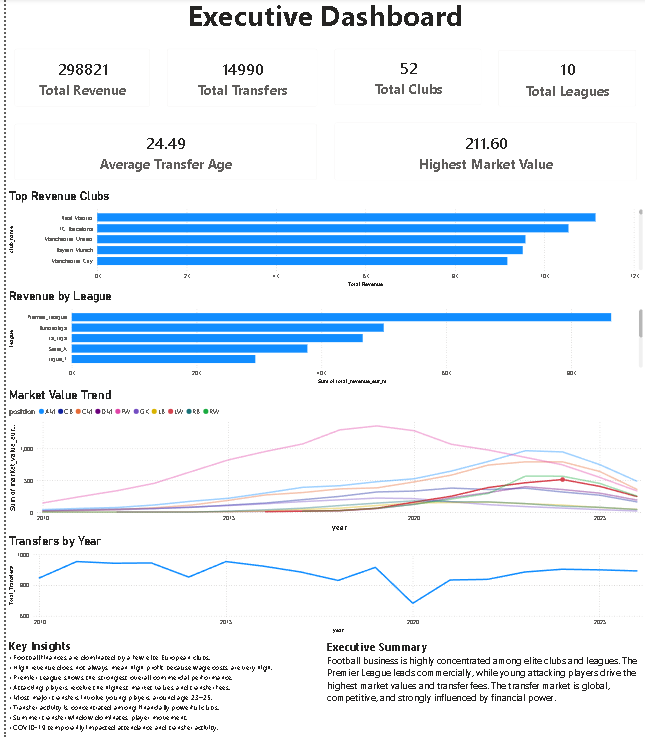

What the dashboard file says about the page in this screenshot:
{"tool":"powerbi","page":{"name":"Executive Dashboard","canvas":[1280,1500],"ordinal":0},"visuals":[{"type":"textbox","box":[0,0,1278.9,91.7],"z":0},{"type":"cardVisual","fields":{"Data":["Sum(league_metrics.total_revenue_eur_m)"]},"box":[0,91.7,305.7,150.3],"z":1},{"type":"cardVisual","fields":{"Data":["transfers_history.Total_Transfers"]},"box":[305,91.7,335,150],"z":2},{"type":"cardVisual","fields":{"Data":["Count(club_financials.club_name)"]},"box":[639.4,91.7,328.6,147.8],"z":3},{"type":"cardVisual","fields":{"Data":["Count(league_metrics.league)"]},"box":[968.1,94.3,310.8,147.8],"z":4},{"type":"cardVisual","fields":{"Data":["Avg(transfers_history.age)"]},"box":[0,242,639.4,147.8],"z":5},{"type":"cardVisual","fields":{"Data":["Max(player_market_values.market_value_eur_m)"]},"box":[639.4,239.5,639.4,150.3],"z":6},{"type":"clusteredBarChart","title":"Top Revenue Clubs","fields":{"Y":["club_financials.Total Revenue"],"Category":["club_financials.club_name"]},"box":[0,389.8,1278.9,201.3],"z":7},{"type":"clusteredBarChart","title":"Revenue by League","fields":{"Category":["league_metrics.league"],"Y":["Sum(league_metrics.total_revenue_eur_m)"]},"box":[0,591,1278.9,196.2],"z":8},{"type":"lineChart","title":"Market Value Trend","fields":{"Y":["Sum(player_market_values.market_value_eur_m)"],"Category":["player_market_values.year"],"Series":["player_market_values.position"]},"box":[0,787.2,1278.9,293],"z":9},{"type":"lineChart","title":"Transfers by Year","fields":{"Category":["transfers_history.year"],"Y":["transfers_history.Total_Transfers"]},"box":[0,1080.2,1278.9,203.8],"z":10},{"type":"textbox","box":[0,1283.3,638.3,216.7],"z":11},{"type":"textbox","box":[638,1284,641,216],"z":12}]}

Visuals, with their boxes in screenshot pixels (x1, y1, x2, y2), scaled from the page's 1280x1500 canvas onto the 645x737 screenshot:
textbox: box(0, 0, 644, 45)
cardVisual - Sum(league_metrics.total_revenue_eur_m): box(0, 45, 154, 119)
cardVisual - transfers_history.Total_Transfers: box(154, 45, 322, 119)
cardVisual - Count(club_financials.club_name): box(322, 45, 488, 118)
cardVisual - Count(league_metrics.league): box(488, 46, 644, 119)
cardVisual - Avg(transfers_history.age): box(0, 119, 322, 192)
cardVisual - Max(player_market_values.market_value_eur_m): box(322, 118, 644, 192)
"Top Revenue Clubs" clusteredBarChart: box(0, 192, 644, 290)
"Revenue by League" clusteredBarChart: box(0, 290, 644, 387)
"Market Value Trend" lineChart: box(0, 387, 644, 531)
"Transfers by Year" lineChart: box(0, 531, 644, 631)
textbox: box(0, 631, 322, 736)
textbox: box(321, 631, 644, 736)
